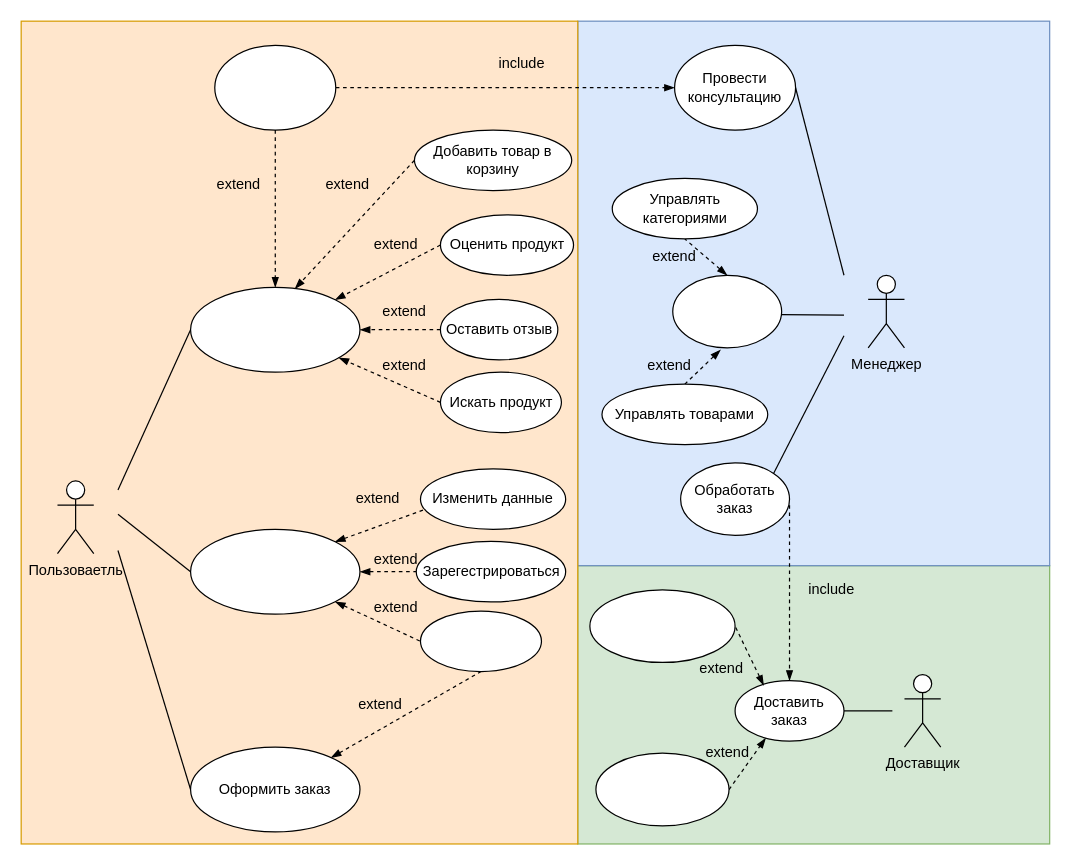
Some shapes in this 1071 by 865 pixel diagram are drawn without their labels. The shapes that lost their labels are listed below. From the top down, each one's box as (x1, y1, x2, y2) in pixels, then its label:
(214, 44, 336, 130): Получить консультацию
(189, 286, 360, 372): Просмотреть каталог
(672, 274, 782, 348): Управлять каталогом
(189, 528, 360, 614): Управлять аккаунтом
(419, 610, 541, 672): Авторизоваться
(589, 589, 735, 662): Забрать товар на доставку
(595, 752, 729, 826): Получить адрес доставки
